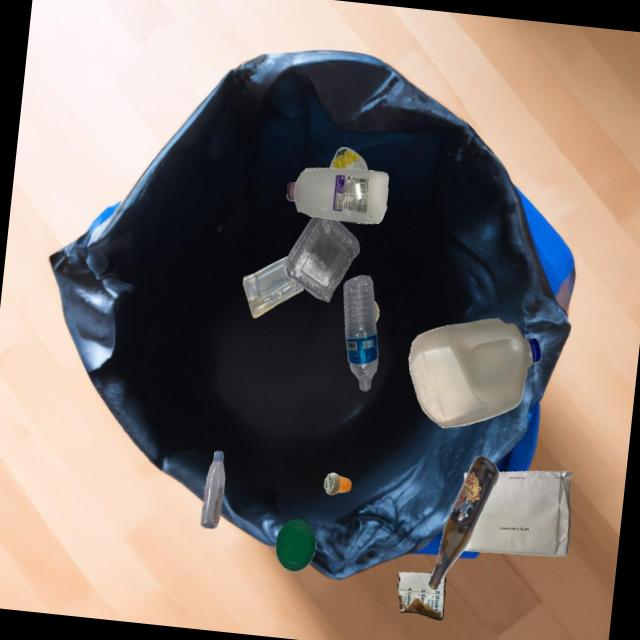cardboard: (397, 571, 445, 619)
glass: (428, 455, 499, 590), (329, 147, 367, 170), (374, 300, 378, 322)
paper: (463, 470, 573, 556)
plastic: (408, 318, 540, 427), (283, 216, 359, 302), (286, 167, 388, 223), (343, 274, 378, 390), (242, 256, 303, 318), (275, 519, 316, 571), (200, 450, 225, 528), (324, 472, 351, 495)
